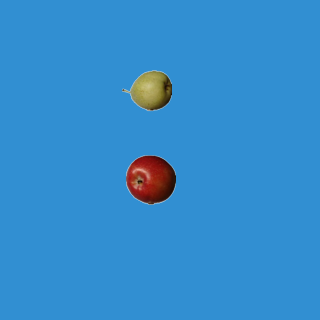Apple Braeburn: (125, 154, 175, 204)
Pear: (121, 65, 171, 115)
